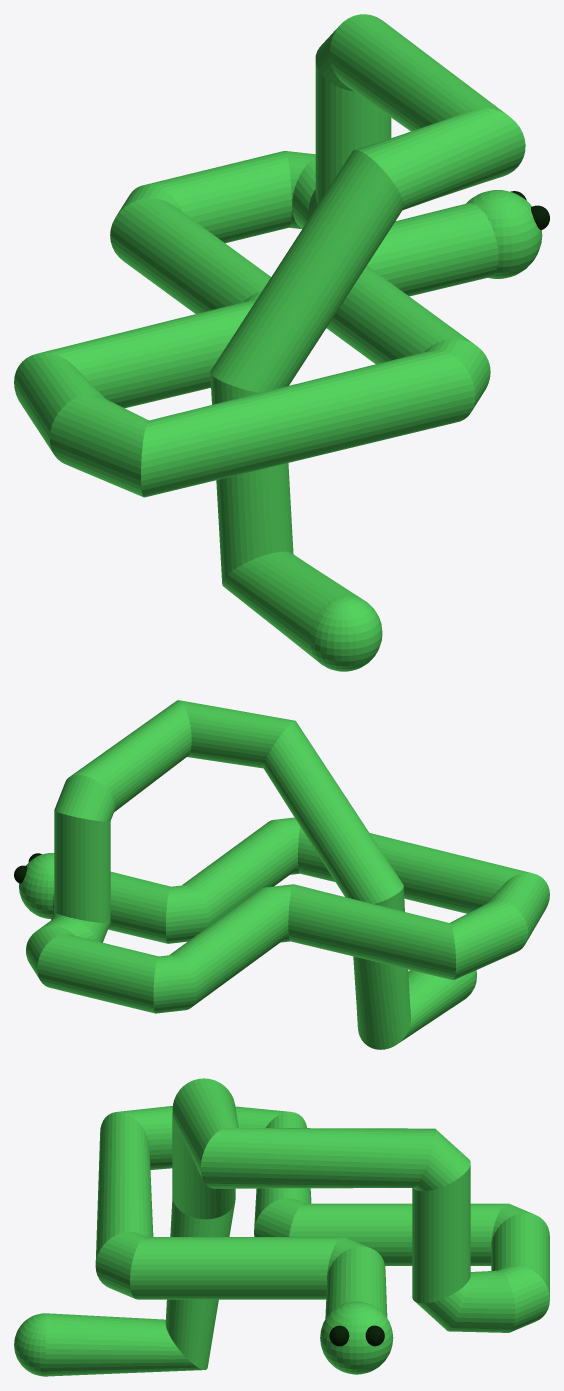
The model's file is snake.glb.
3 renders of one model, top to bottom at view 1: azimuth 30°, elevation 25°; view 2: azimuth 150°, elevation 25°; view 3: azimuth 270°, elevation 25°, orthographic. The views are drawn at different scales.
Visible parts, largest first — view 1: Plane, Tail; view 2: Plane, Tail; view 3: Plane, Tail.
Part boxes in pixels (<box>): Plane: <box>14,14,525,661</box>; Tail: <box>310,190,542,671</box>; Plane: <box>26,700,549,1049</box>; Tail: <box>19,853,476,998</box>; Plane: <box>45,1078,549,1376</box>; Tail: <box>14,1301,393,1376</box>.
Bounding box in the file's own units: 6.99 × 4.8 × 6.77.
